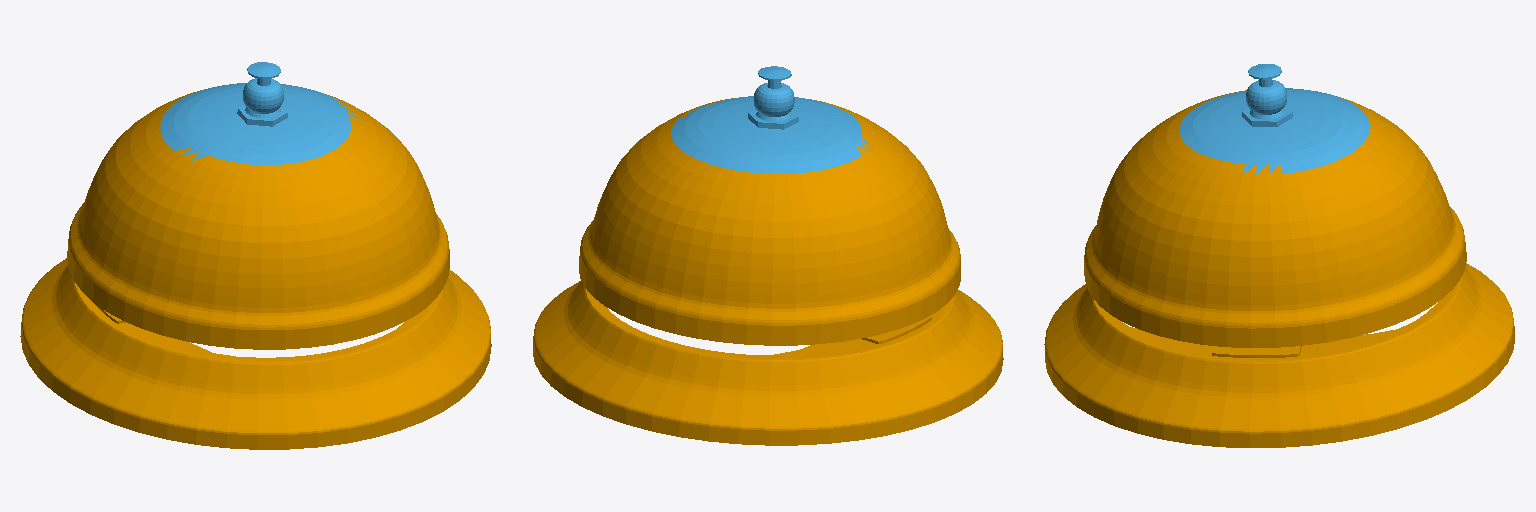
robot.urdf — bell_bell_02_77f2ea_84:
<?xml version="1.0" encoding="UTF-8"?>
<!-- two-link bell candidate; source mesh: bell_02_77f2ea_84 (sha256=15681fac7757b6363ffbacb7e9125ec63fe7f2869da80aedf4b16c2ce91c76c7) -->
<robot name="bell_bell_02_77f2ea_84">
  <link name="base">
    <inertial>
      <origin xyz="0 0 0.017837" rpy="0 0 0"/>
      <mass value="0.095322"/>
      <inertia ixx="0.000061337" ixy="0." ixz="0." iyy="0.000067968" iyz="0." izz="0.000103280"/>
    </inertial>
    <visual>
      <origin xyz="0 0 0" rpy="0 0 0"/>
      <geometry><mesh filename="bell_02_77f2ea_84_base.obj"/></geometry>
    </visual>
    <collision>
      <origin xyz="0 0 0" rpy="0 0 0"/>
      <geometry><mesh filename="bell_02_77f2ea_84_base.obj"/></geometry>
    </collision>
  </link>

  <link name="button_cover">
    <inertial>
      <origin xyz="0 0 0.047987" rpy="0 0 0"/>
      <mass value="0.007038"/>
      <inertia ixx="0.000000446" ixy="0." ixz="0." iyy="0.000000468" iyz="0." izz="0.000000797"/>
    </inertial>
    <visual>
      <origin xyz="0 0 0" rpy="0 0 0"/>
      <geometry><mesh filename="bell_02_77f2ea_84_cover.obj"/></geometry>
    </visual>
    <collision>
      <origin xyz="0 0 0.051029" rpy="0 0 0"/>
      <geometry><cylinder radius="0.007858" length="0.012000"/></geometry>
    </collision>
  </link>

  <joint name="press" type="prismatic">
    <origin xyz="0 0 0" rpy="0 0 0"/>
    <parent link="base"/>
    <child link="button_cover"/>
    <axis xyz="0 0 -1"/>
    <limit lower="-0.005" upper="0.0" effort="50." velocity="0.2"/>
  </joint>
  <gazebo reference="button_cover">
    <mu1>0.6</mu1><mu2>0.6</mu2><maxContacts>3</maxContacts>
  </gazebo>
</robot>

--- Facts derived from the render (not from the file) ---
The picture shows the robot from 3 angles, left to right: view 1: azimuth 30°, elevation 25°; view 2: azimuth 150°, elevation 25°; view 3: azimuth 270°, elevation 25°; orthographic projection.
Robot: bell_bell_02_77f2ea_84 — 2 links, 1 joints (1 prismatic); root link base; default pose: every joint at zero.
Visible links, largest first — view 1: base, button_cover; view 2: base, button_cover; view 3: base, button_cover.
Boxes of the visible links, x1,y1,x2,y2 form: base: (20,89,491,449); button_cover: (160,62,358,164); base: (533,98,1003,445); button_cover: (671,66,870,173); base: (1044,90,1514,447); button_cover: (1179,64,1370,174).
Size in the robot's own frame: 0.084 by 0.084 by 0.057 metres.
Meshes: 2 distinct files referenced, 2 mesh visuals loaded (2 OBJ).
